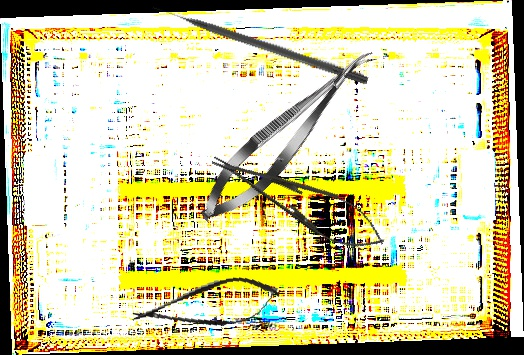Micro Scissor: (186, 34, 388, 235), (129, 270, 283, 341)
Needle Holder: (203, 138, 394, 263)
Pusher: (151, 0, 370, 86)
